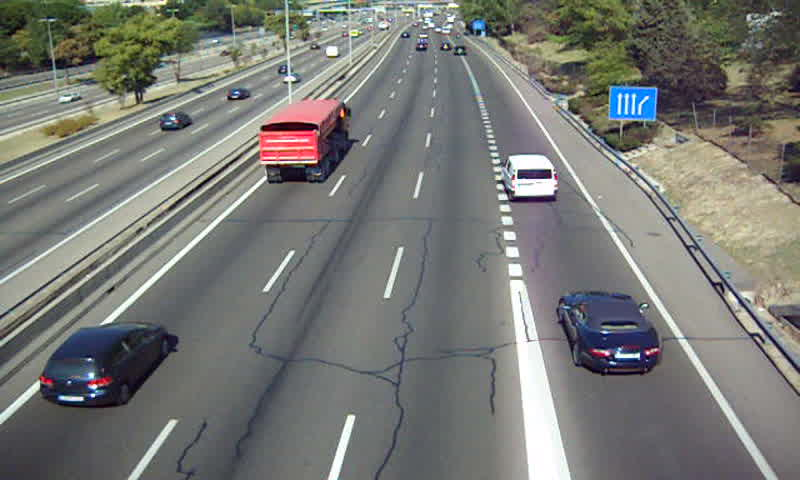car: (39, 323, 169, 408), (558, 292, 660, 374)
truck: (259, 101, 352, 182)
van: (503, 155, 558, 202)
